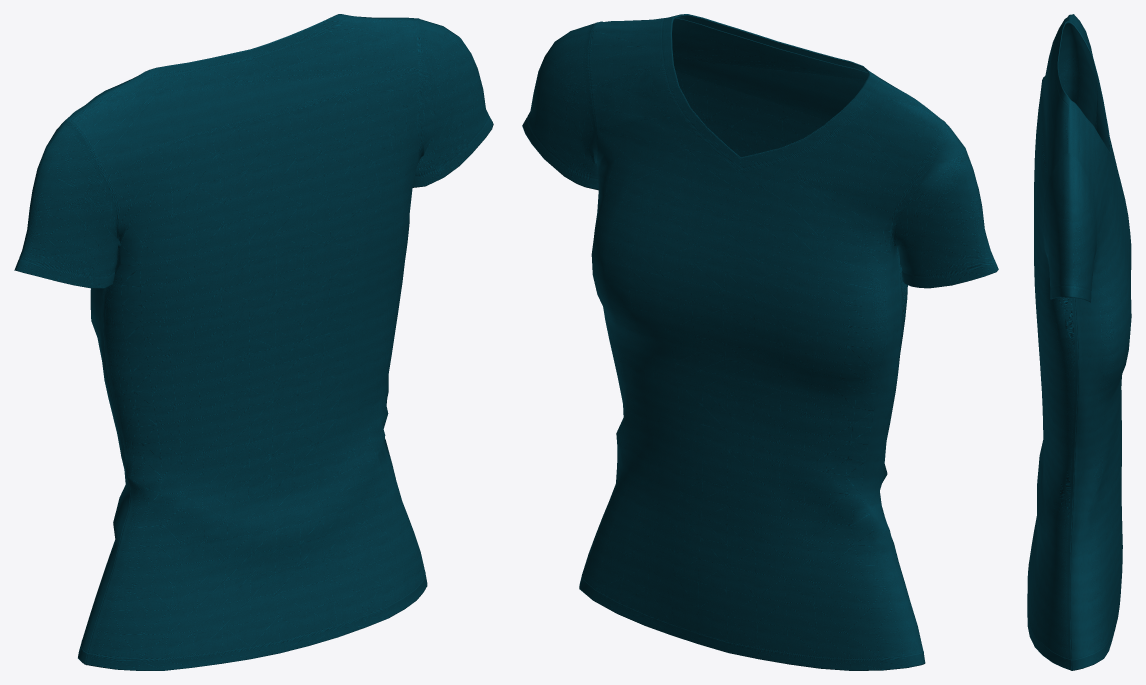
The model's file is T_Shirt_female011.fbx.
3 views of the same model, side by side, from view 1: azimuth 30°, elevation 25°; view 2: azimuth 150°, elevation 25°; view 3: azimuth 270°, elevation 25° (orthographic). The views are drawn at different scales.
Visible parts, largest first — view 1: T_Shirt_female011; view 2: T_Shirt_female011; view 3: T_Shirt_female011.
Part boxes in pixels (bbox=[...]): T_Shirt_female011: bbox=[14, 14, 493, 670]; T_Shirt_female011: bbox=[522, 14, 998, 670]; T_Shirt_female011: bbox=[1027, 14, 1131, 670].
Bounding box in the file's own units: 13.91 × 16.8 × 2.92.
